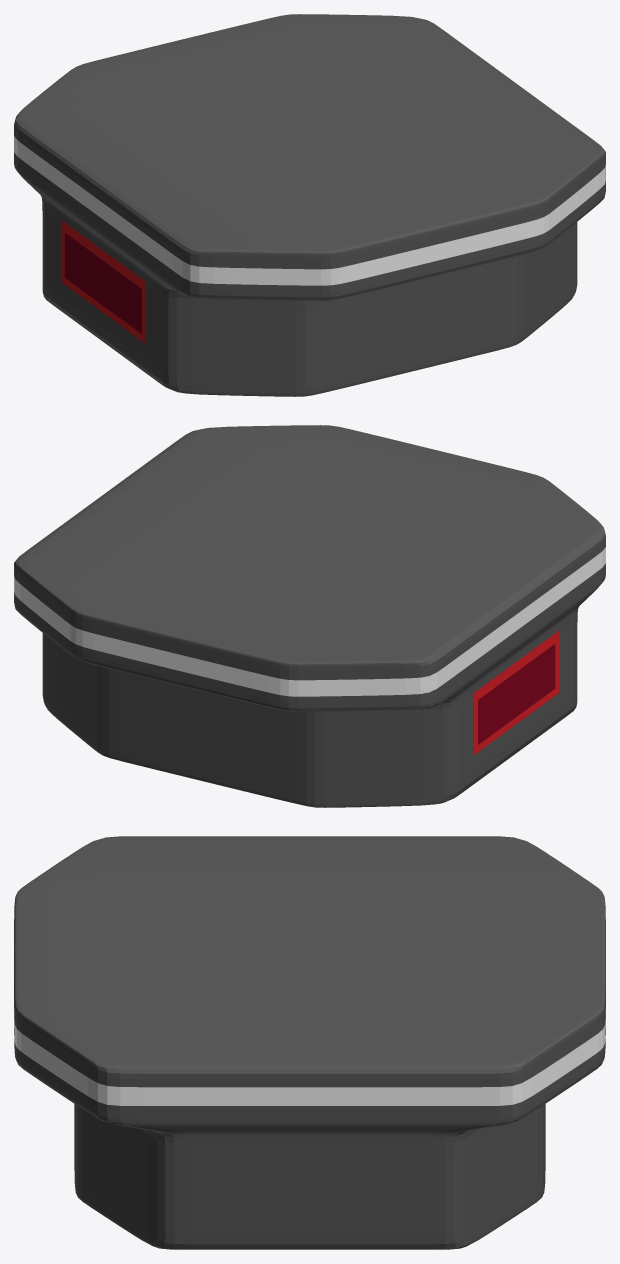
Rendered from car.dae.
The picture shows the model from 3 angles, top to bottom: view 1: azimuth 30°, elevation 25°; view 2: azimuth 150°, elevation 25°; view 3: azimuth 270°, elevation 25°; orthographic projection. The views are drawn at different scales.
Visible parts, largest first — view 1: 立方体.001; view 2: 立方体.001; view 3: 立方体.001.
Part boxes in pixels (x1,y1,x2,y2): 立方体.001: (14,14,605,396); 立方体.001: (14,425,605,807); 立方体.001: (14,836,605,1249).
Size of the model in its own units: 0.8 by 0.8501 by 0.3.
4 materials, 4 textured.
